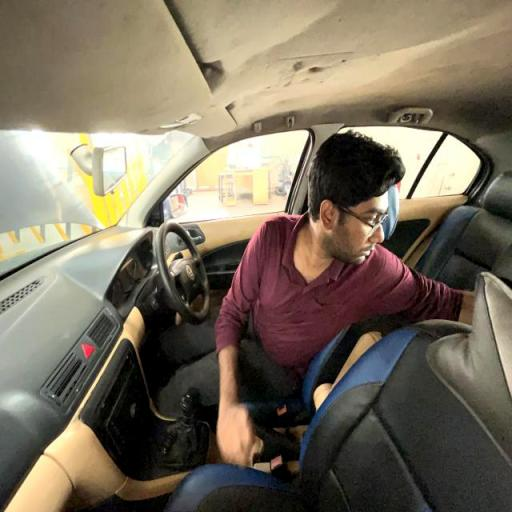Reaching_behind: (215, 130, 475, 445)
